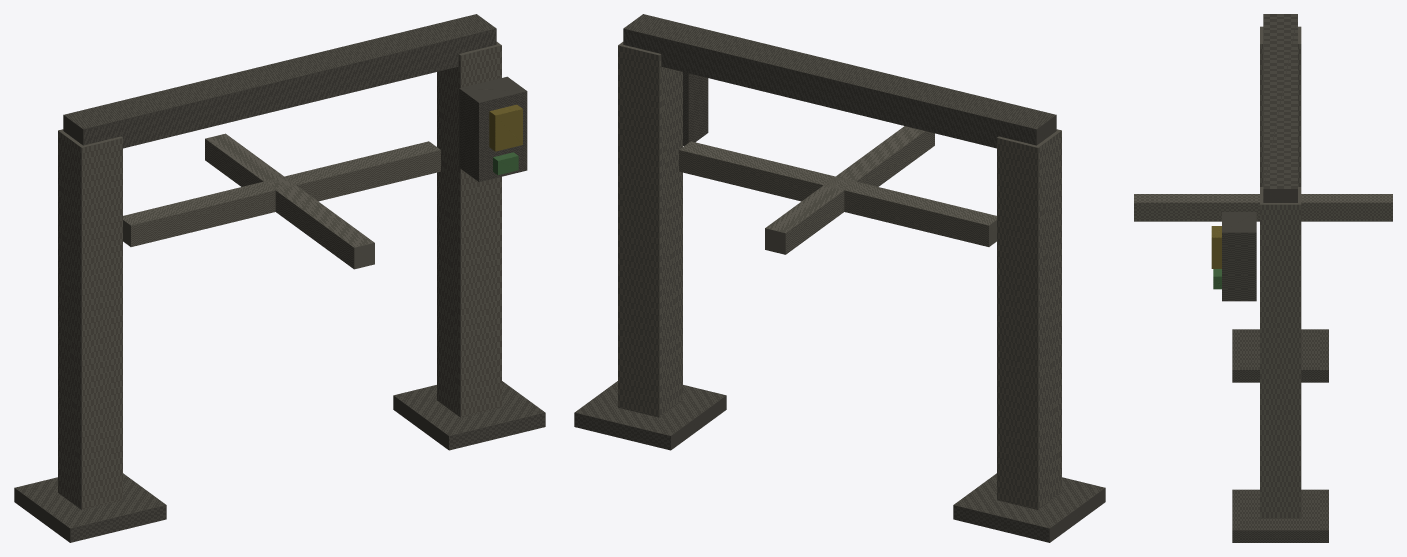
File: prop_turnstile.glb
3 views of the same model, side by side, from view 1: azimuth 30°, elevation 25°; view 2: azimuth 150°, elevation 25°; view 3: azimuth 270°, elevation 25° (orthographic). The views are drawn at different scales.
Visible parts, largest first — view 1: prop_turnstile; view 2: prop_turnstile; view 3: prop_turnstile.
Boxes of the visible parts, bbox=[...] form: prop_turnstile: bbox=[14, 14, 545, 542]; prop_turnstile: bbox=[574, 14, 1105, 542]; prop_turnstile: bbox=[1134, 14, 1392, 542].
Bounding box in the file's own units: 1.38 × 1.1 × 0.75.
1 material, 1 textured.
